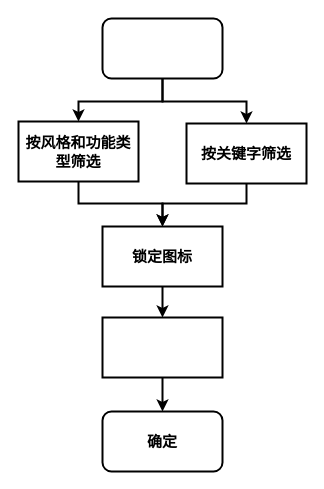
The diagram is 324 pixels wide and 489 high, and some of its shapes have lost their labels. The box of each missing label's shape, as (x1, y1, x2, y2) in pixels:
大小和颜色设置: (101, 316, 223, 378)
开始: (101, 17, 223, 79)
